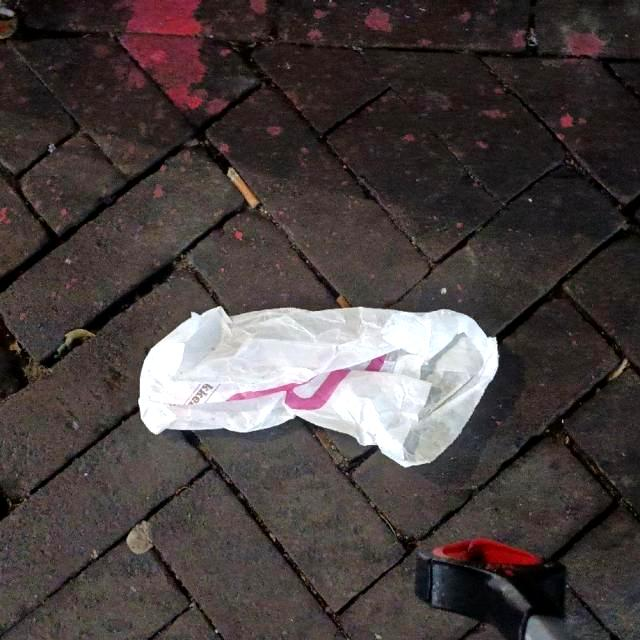Paper: (134, 300, 502, 472)
